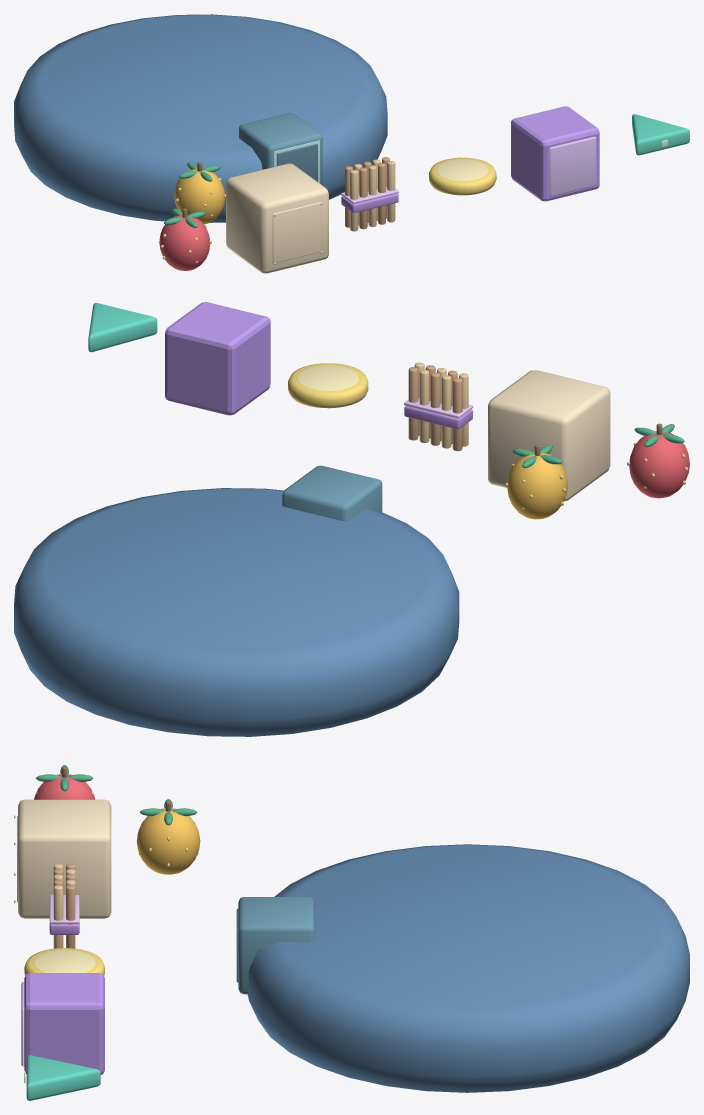
The model's file is Lumo-Learning-Objects.glb.
3 renders of one model, top to bottom at view 1: azimuth 30°, elevation 25°; view 2: azimuth 150°, elevation 25°; view 3: azimuth 270°, elevation 25°, orthographic. The views are drawn at different scales.
Visible parts, largest first — view 1: LearningPodium, LetterTile, ShapeSquare, TenFrameCell, TenBundle, CounterBerry, CounterBerryGold, ShapeCircle, ShapeTriangle; view 2: LearningPodium, LetterTile, ShapeSquare, TenBundle, TenFrameCell, CounterBerry, CounterBerryGold, ShapeCircle, ShapeTriangle; view 3: LearningPodium, LetterTile, ShapeSquare, TenFrameCell, CounterBerryGold, ShapeTriangle, TenBundle, ShapeCircle, CounterBerry.
Boxes of the visible parts, x1,y1,x2,y2 form: LearningPodium: (14, 14, 387, 222); LetterTile: (226, 163, 328, 273); ShapeSquare: (511, 106, 599, 201); TenFrameCell: (239, 113, 322, 185); TenBundle: (341, 157, 398, 231); CounterBerry: (159, 208, 211, 270); CounterBerryGold: (174, 162, 225, 224); ShapeCircle: (429, 157, 496, 195); ShapeTriangle: (632, 114, 689, 155); LearningPodium: (14, 488, 459, 736); LetterTile: (488, 370, 610, 501); ShapeSquare: (165, 302, 270, 415); TenBundle: (404, 362, 473, 451); TenFrameCell: (282, 465, 382, 520); CounterBerry: (627, 423, 689, 498); CounterBerryGold: (505, 444, 567, 519); ShapeCircle: (288, 363, 368, 408); ShapeTriangle: (88, 303, 157, 352); LearningPodium: (247, 844, 689, 1092); LetterTile: (14, 799, 111, 918); ShapeSquare: (21, 973, 104, 1074); TenFrameCell: (236, 897, 314, 994); CounterBerryGold: (136, 799, 200, 874); ShapeTriangle: (24, 1055, 100, 1100); TenBundle: (49, 863, 79, 948); ShapeCircle: (24, 948, 104, 975); CounterBerry: (34, 765, 95, 799).
Size of the model in its own units: 3.33 by 0.7305 by 3.19.
